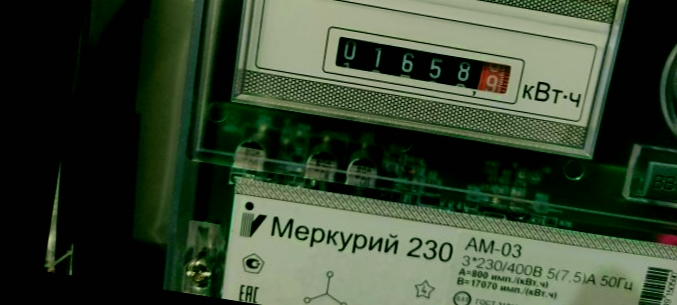0: (342, 36, 358, 60)
1: (371, 44, 384, 67)
5: (427, 54, 444, 78)
6: (399, 48, 416, 72)
8: (455, 57, 472, 81)
9: (482, 70, 499, 93)
screen: (315, 18, 533, 110)
